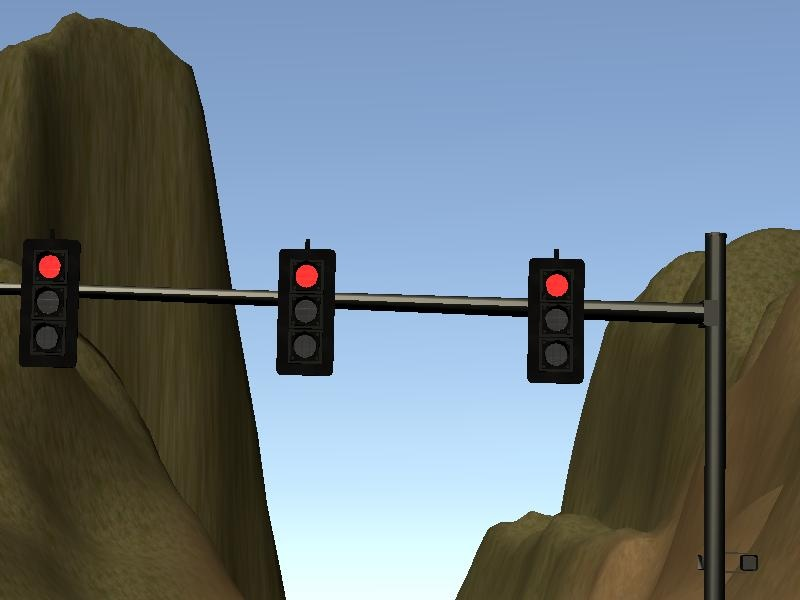RED: (275, 249, 336, 378), (19, 237, 79, 367), (526, 258, 586, 386)
